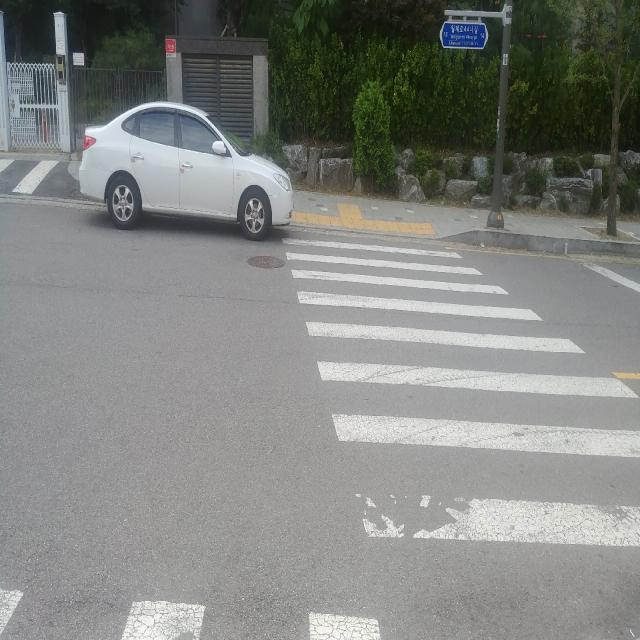횡단보도: (280, 234, 640, 550)
